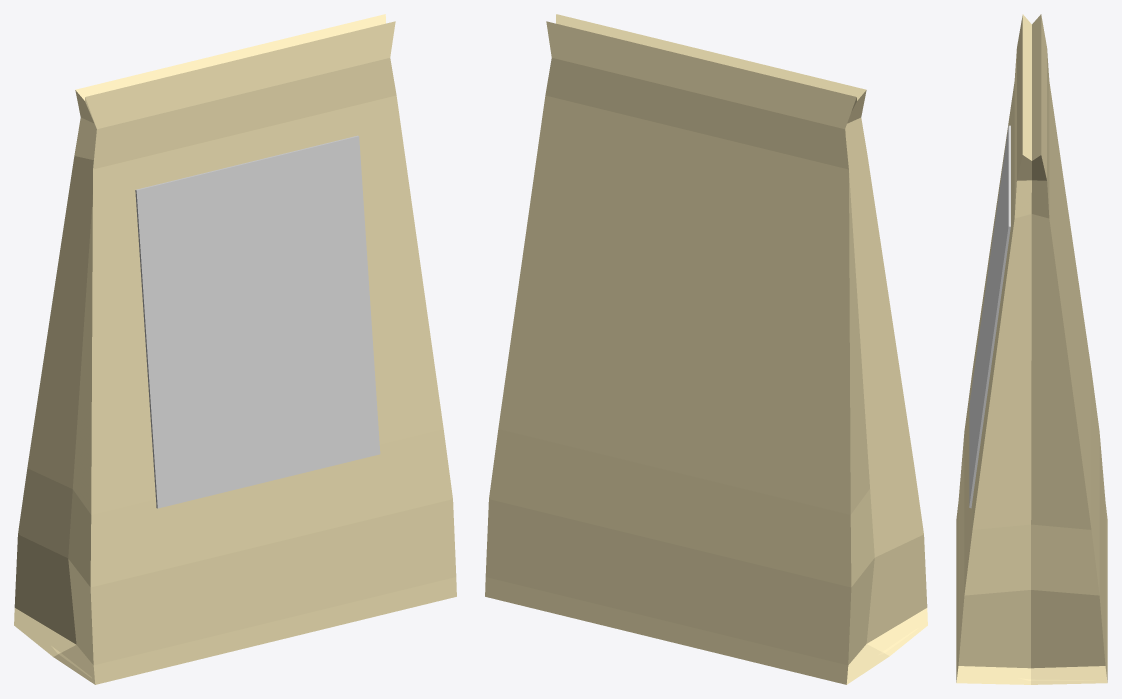
The model's file is 50g-sac.fbx.
3 views of the same model, side by side, from view 1: azimuth 30°, elevation 25°; view 2: azimuth 150°, elevation 25°; view 3: azimuth 270°, elevation 25° (orthographic). The views are drawn at different scales.
Parts seen in each view (by area): view 1: sac50g, Plane.001; view 2: sac50g; view 3: sac50g, Plane.001.
Boxes of the visible parts, bbox=[...] form: sac50g: bbox=[14, 14, 456, 684]; Plane.001: bbox=[135, 135, 380, 508]; sac50g: bbox=[485, 14, 927, 684]; sac50g: bbox=[956, 14, 1107, 684]; Plane.001: bbox=[969, 125, 1010, 508].
Size of the model in its own units: 60.28 by 87.65 by 23.2.
2 materials, 1 textured.
